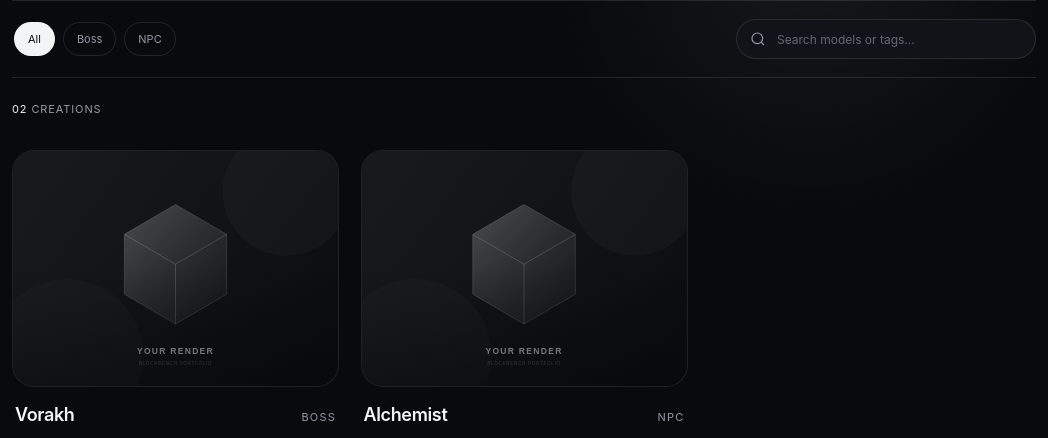
GalleryClient › shows a useful empty state
Type "no-match" into the search field at (886, 39), box [736,19,1036,59]
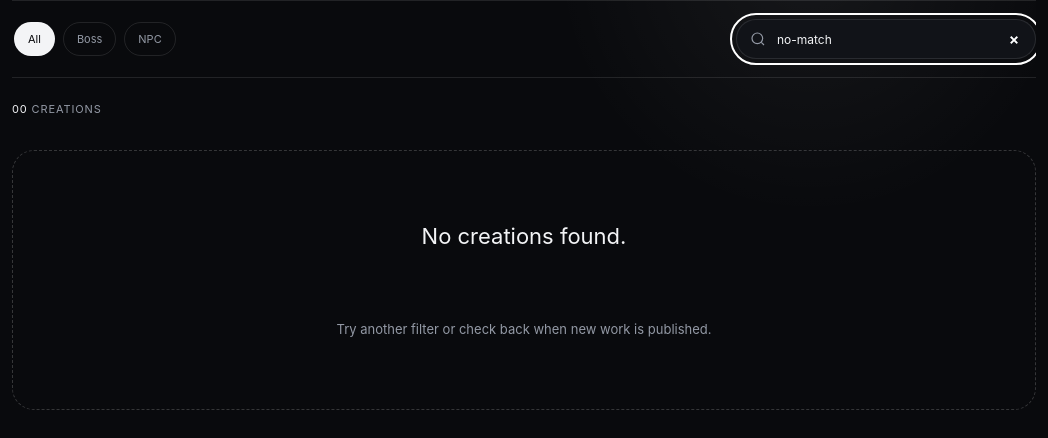
Expected: the text "No creations found." is shown, [422,223,626,249]
